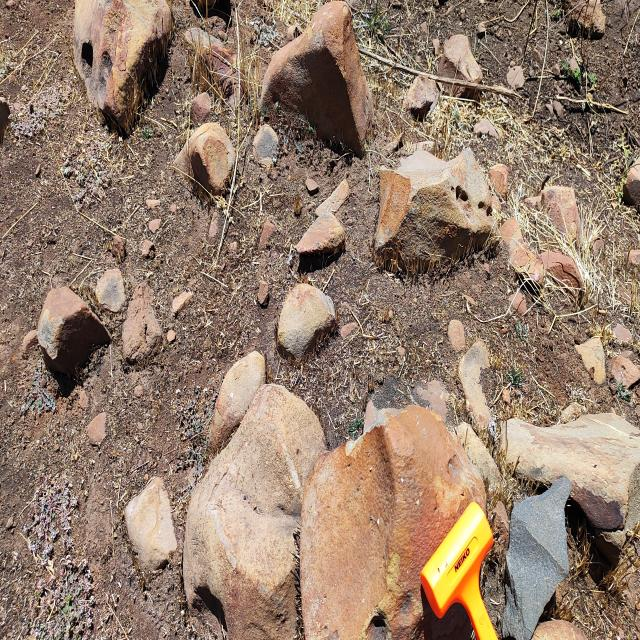Orange_hammer: (420, 500, 499, 639)
